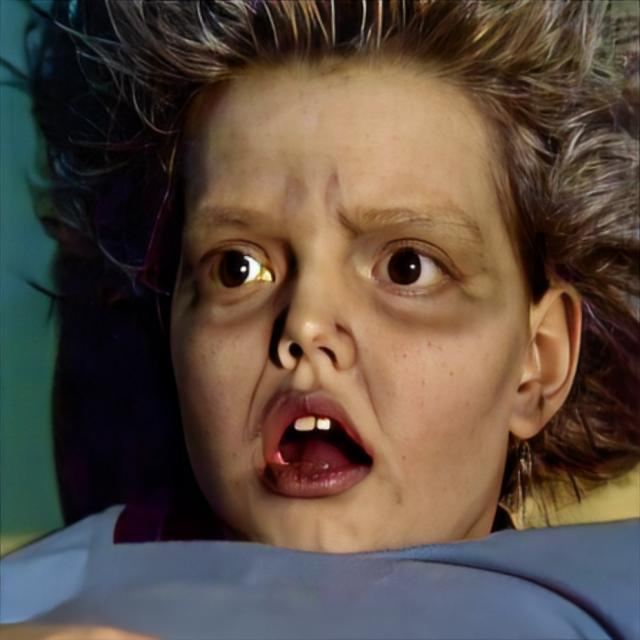fear: (165, 51, 530, 557)
